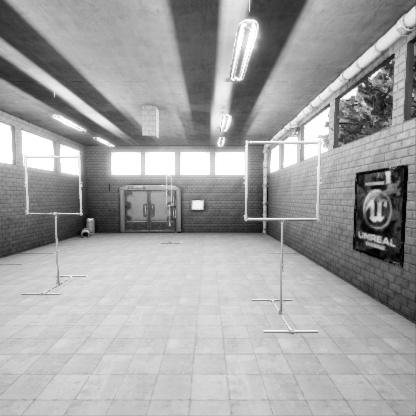gate: (247, 198, 329, 279), (31, 204, 89, 261), (166, 210, 172, 243)
